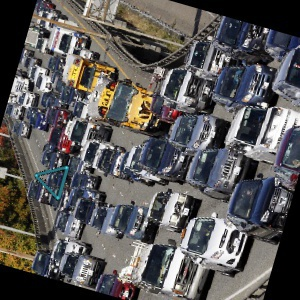triangle: (33, 164, 71, 202)
